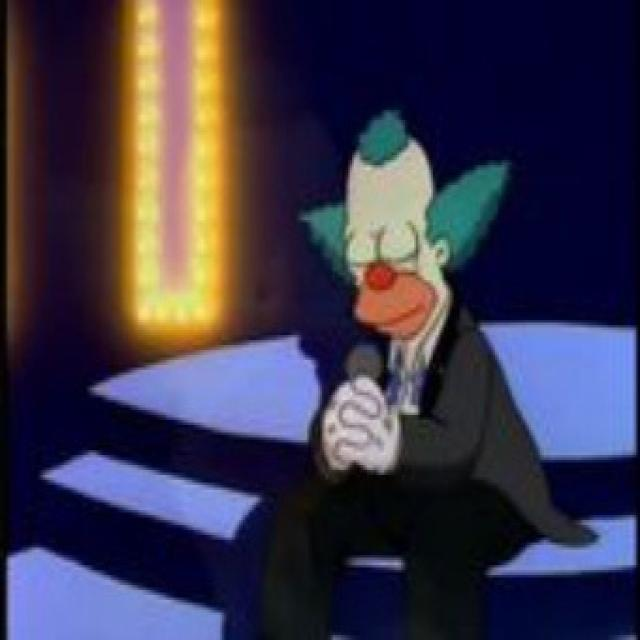Krusty the Clown: (299, 104, 514, 356)
